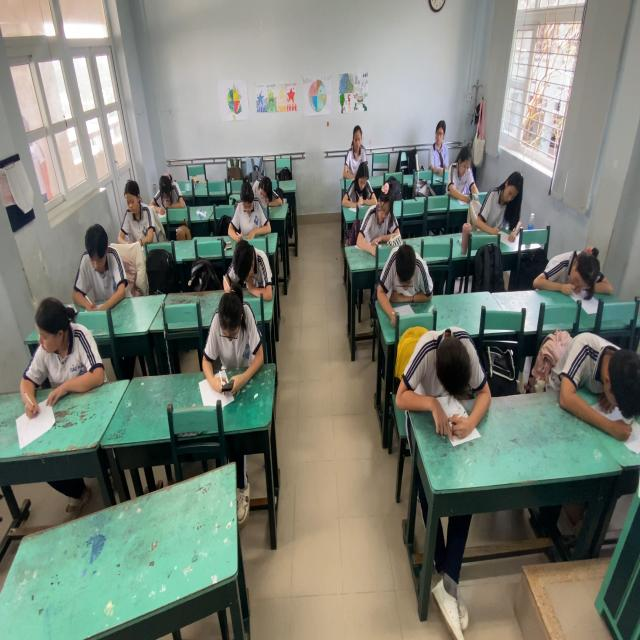cheating: (18, 284, 84, 399)
not_cheating: (552, 322, 640, 416), (208, 278, 276, 388), (404, 326, 480, 419), (539, 243, 607, 308), (76, 219, 121, 305), (376, 243, 422, 326), (479, 170, 533, 236), (362, 180, 399, 264), (228, 177, 264, 250), (119, 170, 152, 243), (226, 236, 272, 287), (144, 167, 183, 215), (428, 116, 453, 176), (446, 146, 472, 202), (253, 177, 286, 215), (350, 156, 381, 191), (348, 119, 368, 160)
